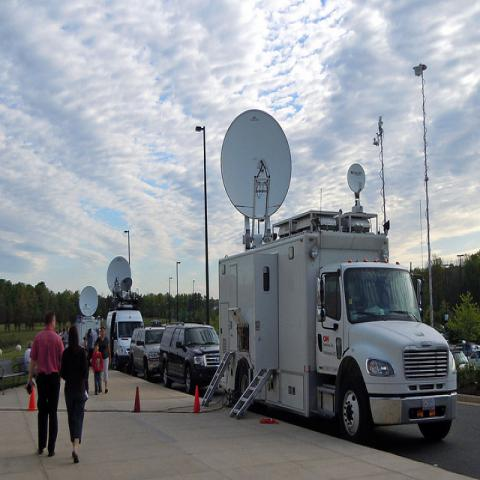car: (452, 350, 470, 371), (468, 350, 480, 368), (468, 342, 479, 356)
truck: (216, 109, 458, 445), (159, 323, 221, 395), (105, 308, 145, 370), (129, 326, 165, 380)
